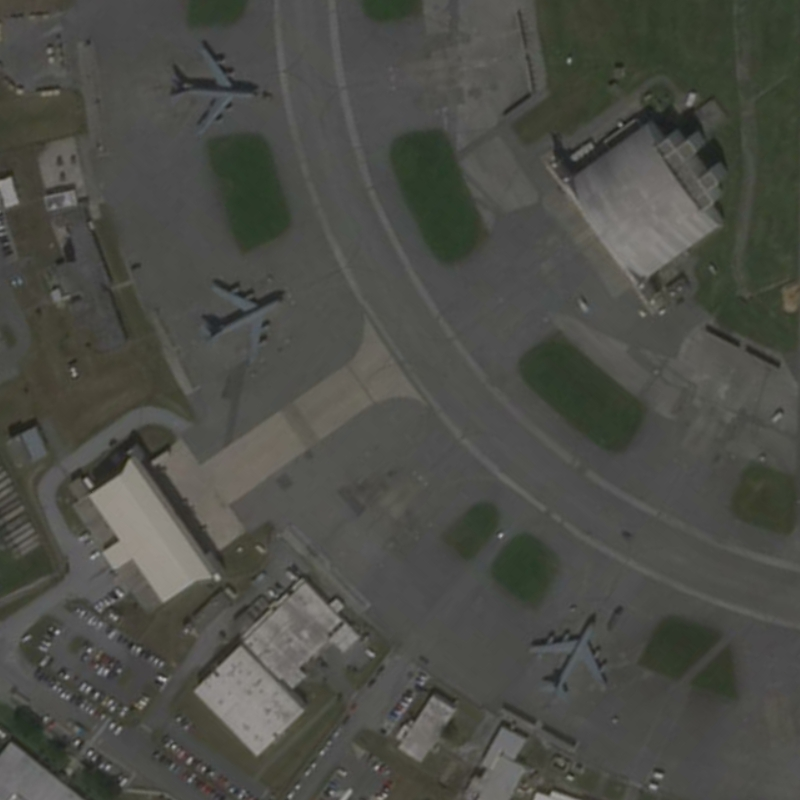A14: (161, 35, 266, 143), (200, 271, 289, 372), (524, 605, 617, 700)
